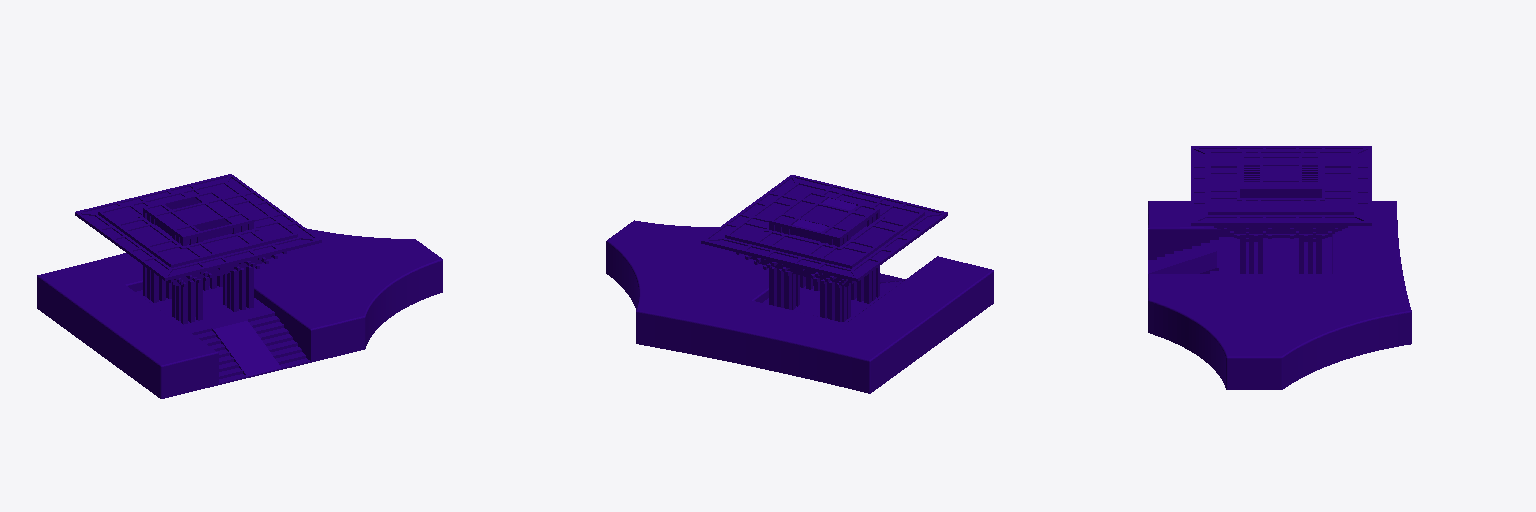
The model's file is building.obj.
3 renders of one model, left to right at view 1: azimuth 30°, elevation 25°; view 2: azimuth 150°, elevation 25°; view 3: azimuth 270°, elevation 25°, orthographic.
Parts seen in each view (by area): view 1: Expo_gate; view 2: Expo_gate; view 3: Expo_gate.
Part boxes in pixels (left/top/right/bottom): Expo_gate: left=37, top=174, right=442, bottom=398; Expo_gate: left=606, top=175, right=993, bottom=393; Expo_gate: left=1148, top=146, right=1411, bottom=389.
Size of the model in its own units: 1118 by 370 by 794.